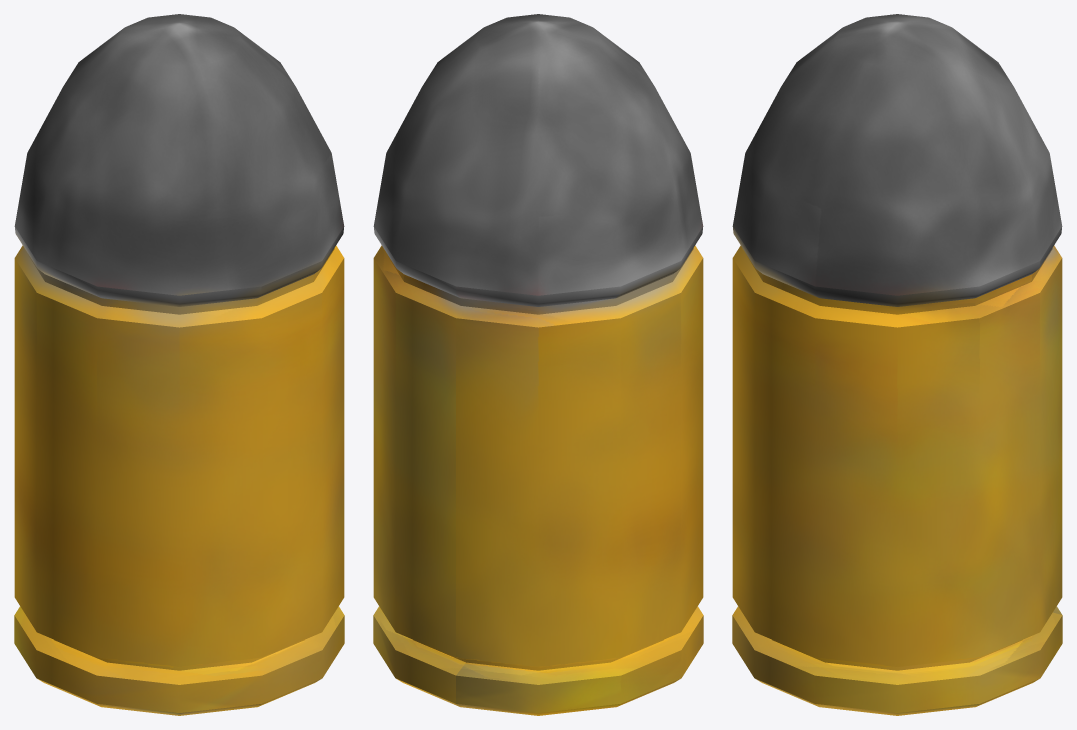
Rendered from bullet.fbx.
The picture shows the model from 3 angles, left to right: view 1: azimuth 30°, elevation 25°; view 2: azimuth 150°, elevation 25°; view 3: azimuth 270°, elevation 25°; orthographic projection.
Parts seen in each view (by area): view 1: Cylinder; view 2: Cylinder; view 3: Cylinder.
Boxes of the visible parts, box(x1,y1,x2,y2) form: Cylinder: box(14, 14, 344, 715); Cylinder: box(373, 14, 703, 715); Cylinder: box(732, 14, 1062, 715).
Bounding box in the file's own units: 201 × 419 × 201.
Materials: 1 (1 with a texture image).
